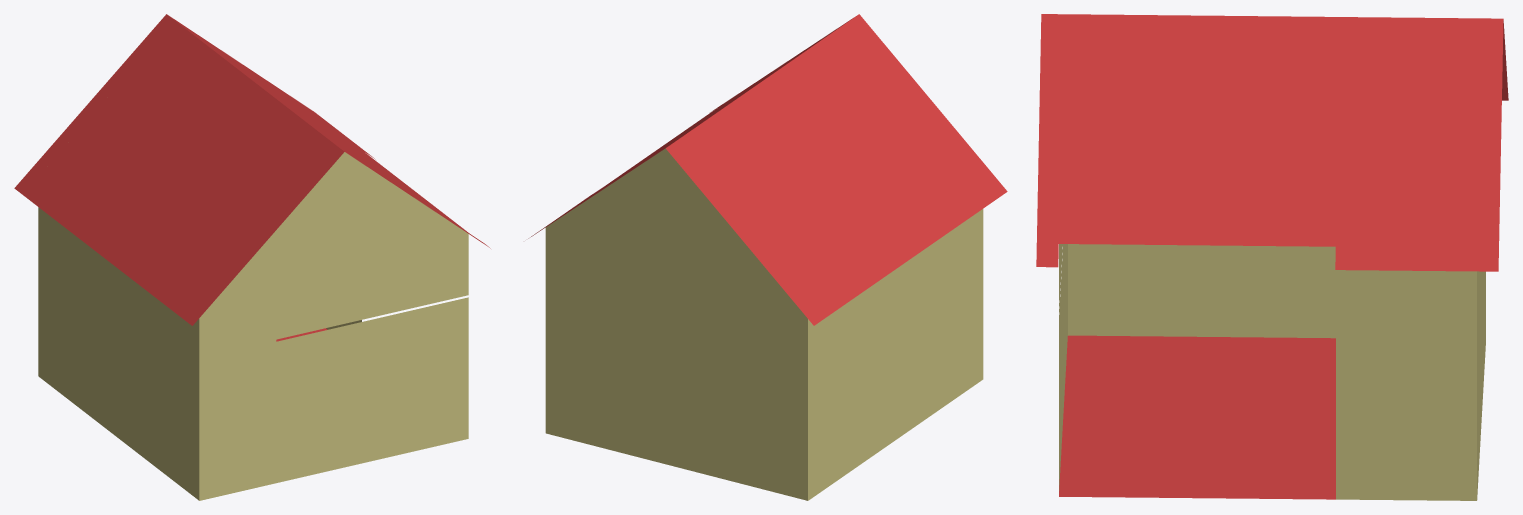
3 renders of one model, left to right at view 1: azimuth 30°, elevation 25°; view 2: azimuth 150°, elevation 25°; view 3: azimuth 270°, elevation 25°, orthographic. The views are drawn at different scales.
Size of the model in its own units: 14.91 by 16.13 by 15.19.
